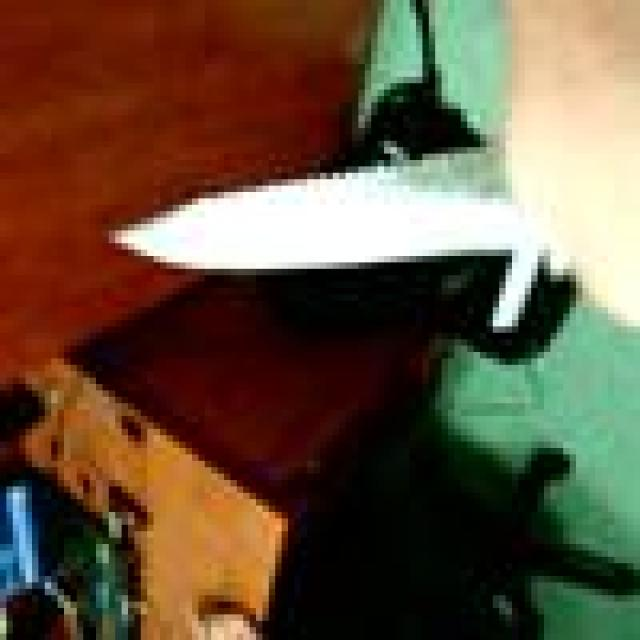knife: (97, 154, 532, 267)
